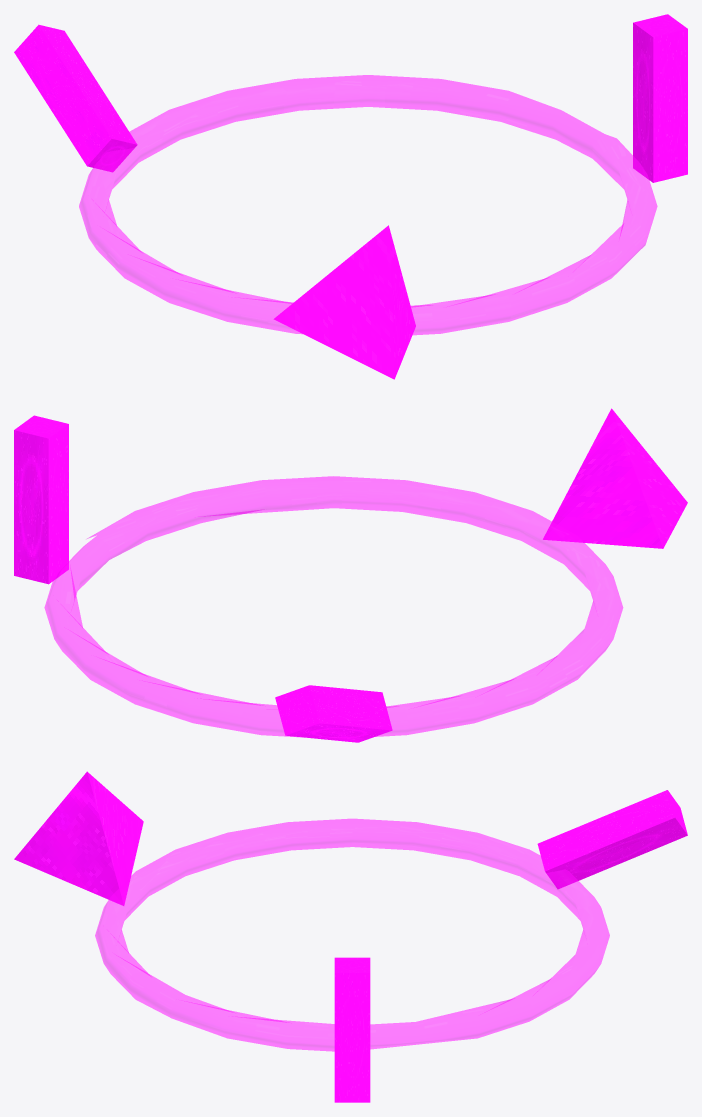
File: sci-fi-story-pillar.collider.glb
3 renders of one model, top to bottom at view 1: azimuth 30°, elevation 25°; view 2: azimuth 150°, elevation 25°; view 3: azimuth 270°, elevation 25°, orthographic. The views are drawn at different scales.
Visible parts, largest first — view 1: story-marker-magenta-transparent|#ff00ff|#ff00ff|0.38|1|0.04, story-marker-magenta-body; view 2: story-marker-magenta-transparent|#ff00ff|#ff00ff|0.38|1|0.04, story-marker-magenta-body; view 3: story-marker-magenta-transparent|#ff00ff|#ff00ff|0.38|1|0.04, story-marker-magenta-body.
Boxes of the visible parts, bbox=[...] form: story-marker-magenta-transparent|#ff00ff|#ff00ff|0.38|1|0.04: bbox=[79, 75, 657, 335]; story-marker-magenta-body: bbox=[14, 14, 687, 379]; story-marker-magenta-transparent|#ff00ff|#ff00ff|0.38|1|0.04: bbox=[44, 476, 623, 737]; story-marker-magenta-body: bbox=[14, 408, 687, 742]; story-marker-magenta-transparent|#ff00ff|#ff00ff|0.38|1|0.04: bbox=[95, 818, 609, 1051]; story-marker-magenta-body: bbox=[14, 771, 687, 1102].
Size of the model in its own units: 0.805 by 0.217 by 0.942.
2 materials, 2 textured.
